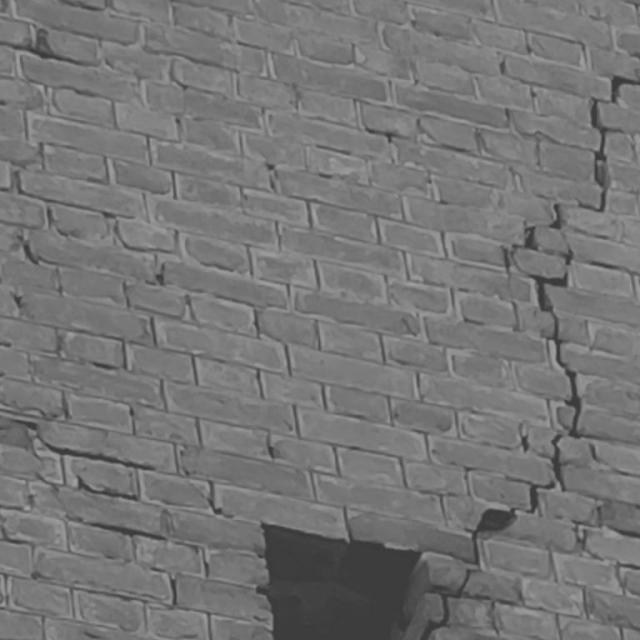crack: (424, 76, 638, 638)
